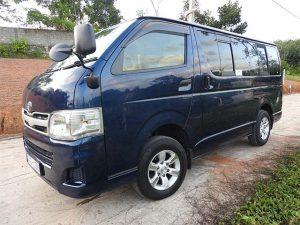van: (20, 16, 283, 202)
